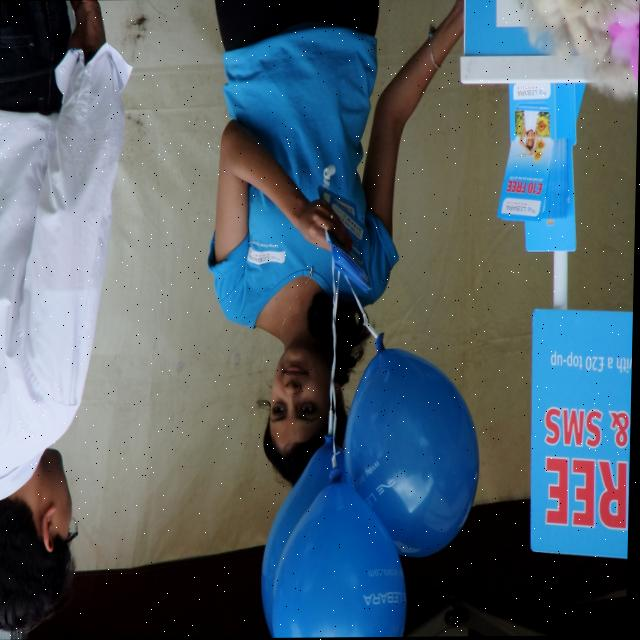balloon: (346, 345, 480, 555), (277, 481, 411, 638), (263, 445, 347, 631)
